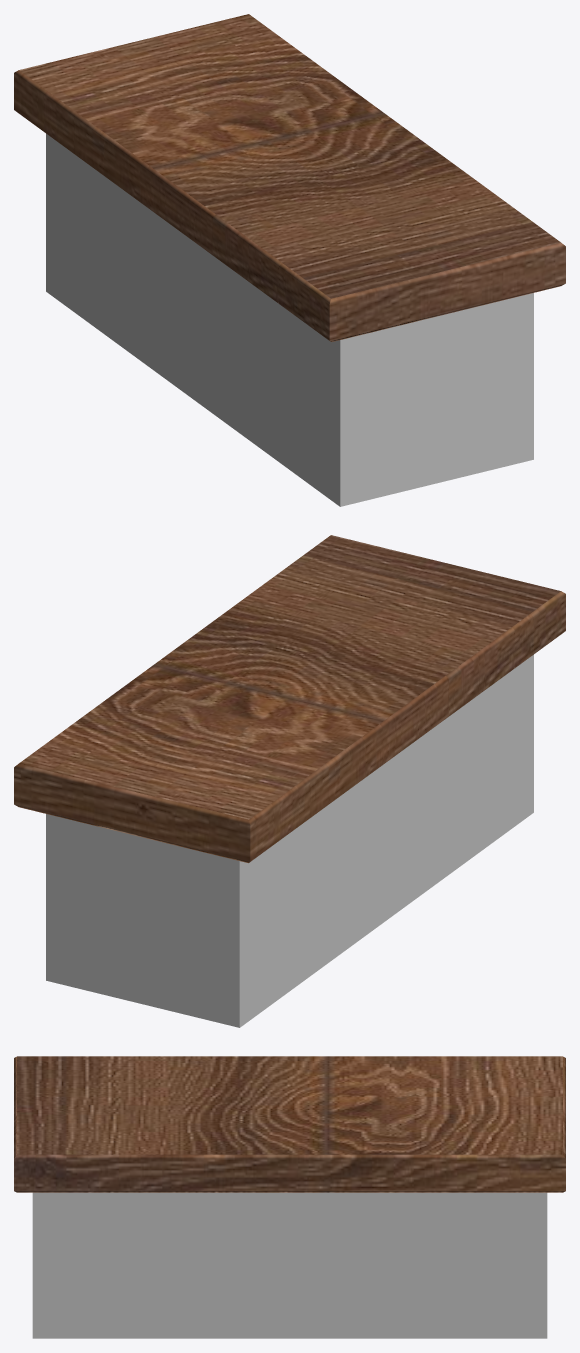
File: table.fbx
3 views of the same model, one above another, from view 1: azimuth 30°, elevation 25°; view 2: azimuth 150°, elevation 25°; view 3: azimuth 270°, elevation 25° (orthographic). The views are drawn at different scales.
Visible parts, largest first — view 1: table; view 2: table; view 3: table.
Boxes of the visible parts, bbox=[...] form: table: bbox=[14, 14, 565, 506]; table: bbox=[14, 535, 565, 1027]; table: bbox=[14, 1056, 565, 1338].
Bounding box in the file's own units: 1.36 × 1.2 × 3.14.
